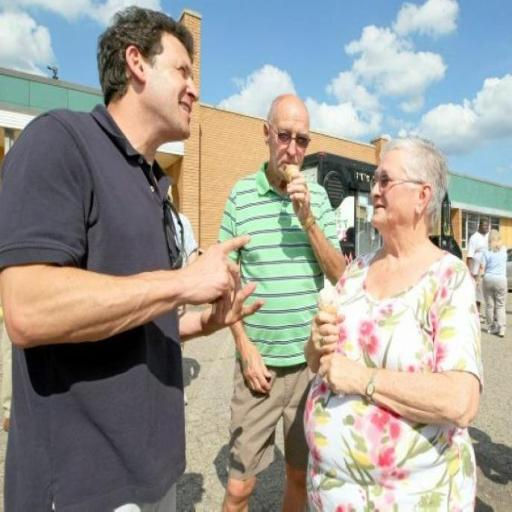person: (0, 7, 260, 511), (305, 137, 482, 511), (220, 95, 345, 511), (481, 229, 507, 337), (168, 187, 201, 265), (467, 219, 488, 312), (0, 305, 11, 431)
